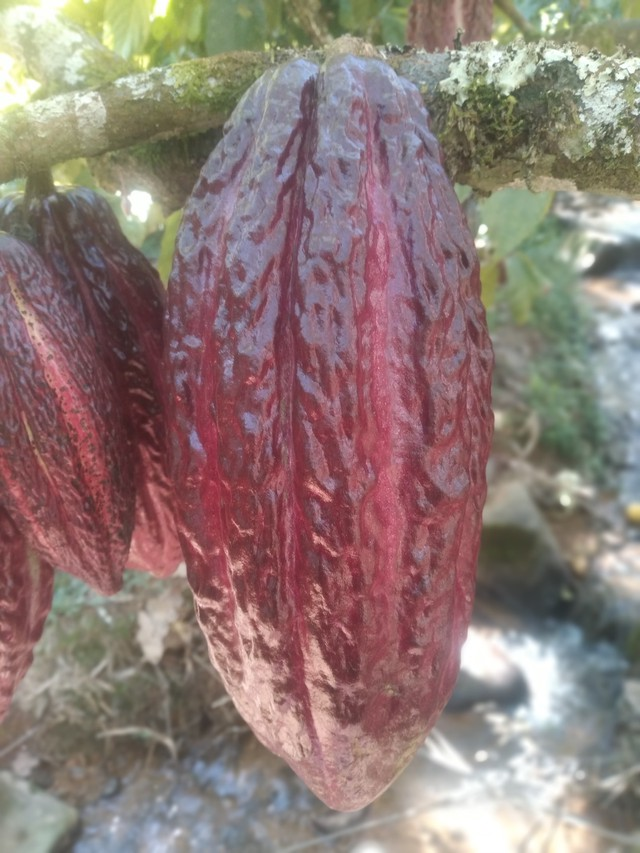Health: (138, 46, 506, 824)
